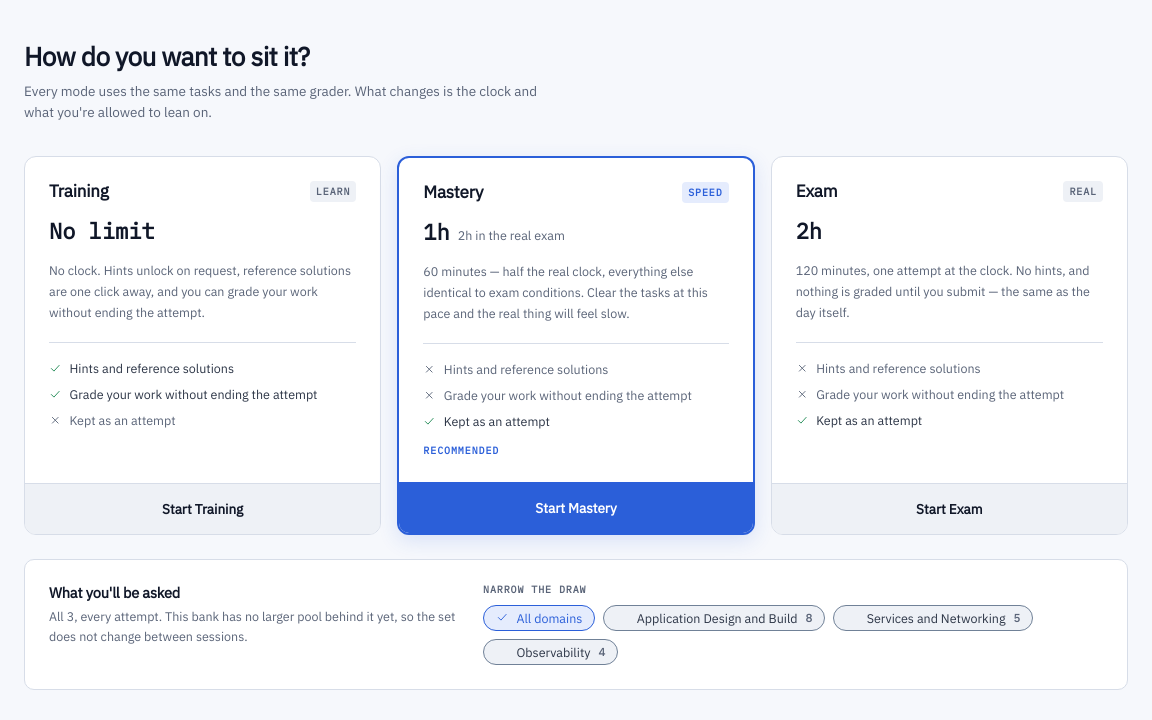
starting › a start that only draws the tasks keeps every mode locked
Expected: the heading "Exam" is shown, [796, 181, 838, 202]
Click the button "Start Exam": (949, 508) [772, 483, 1127, 534]
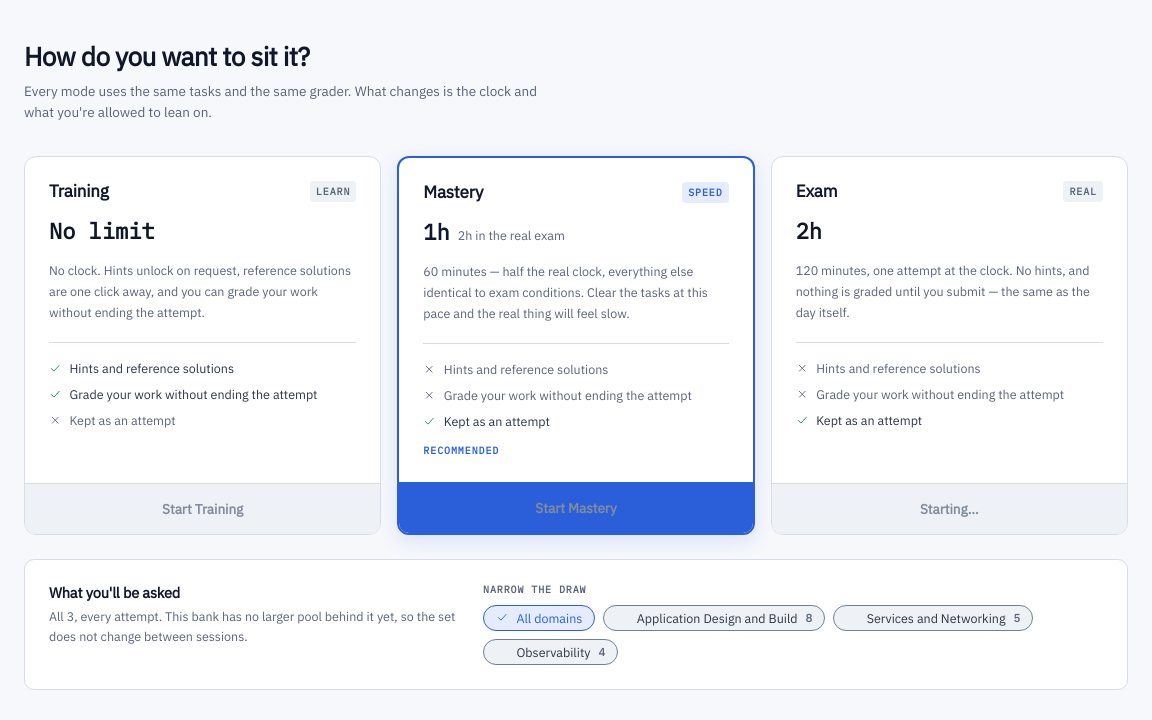
Expected: the button "Starting…" is disabled, [772, 483, 1127, 534]
Expected: the button "Start Training" is disabled, [25, 483, 380, 534]
